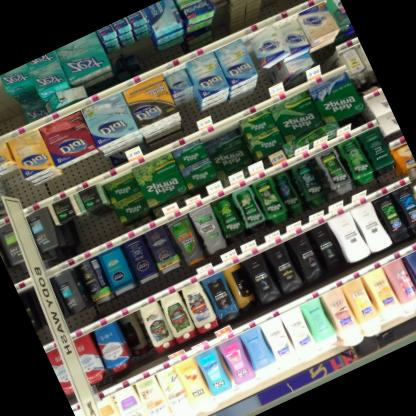empty_space: (114, 309, 165, 373), (0, 77, 20, 144)
